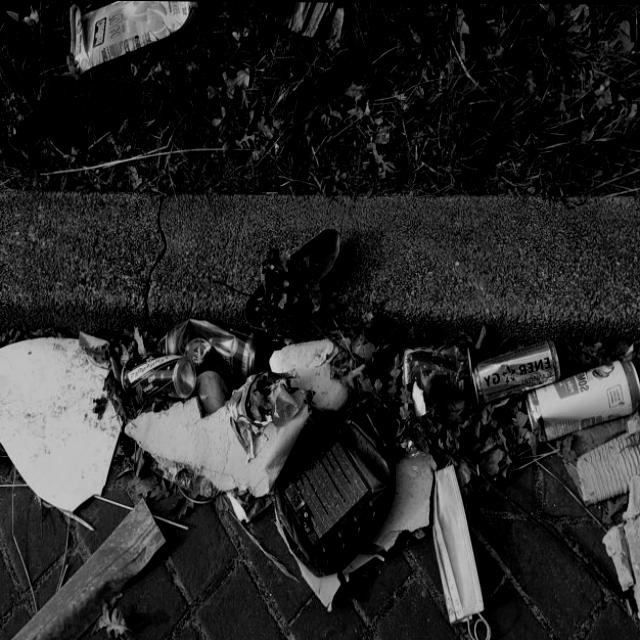Can-Metal: (526, 356, 640, 443), (474, 332, 560, 412), (164, 316, 259, 381), (400, 341, 474, 395), (120, 353, 198, 400)
Mask: (432, 463, 494, 640)
Paper: (0, 332, 126, 517), (61, 0, 198, 82)
Plastic: (274, 389, 400, 579)
